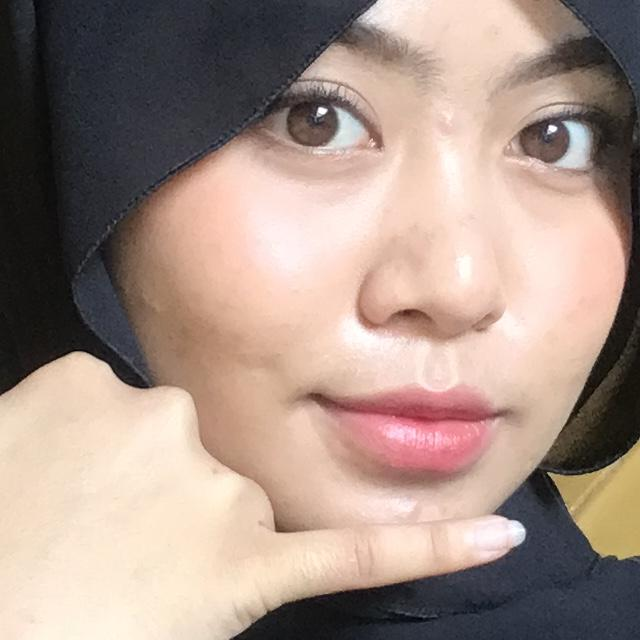telpon: (0, 136, 610, 640)
